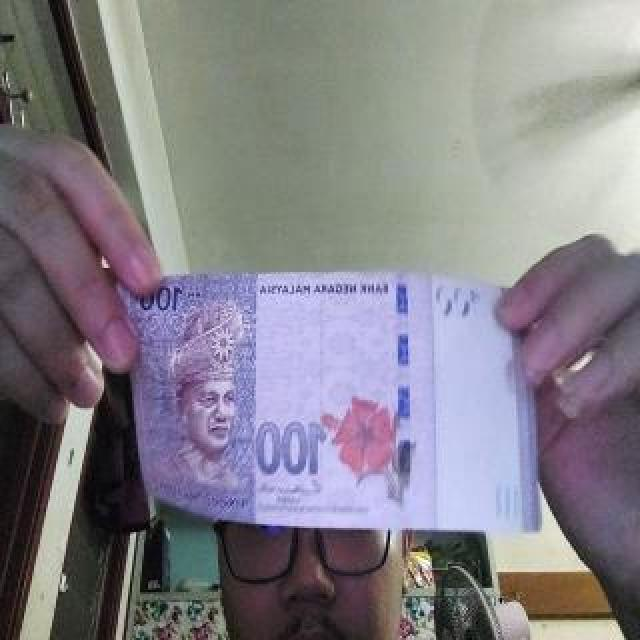100 Ringgit: (62, 270, 563, 535)
